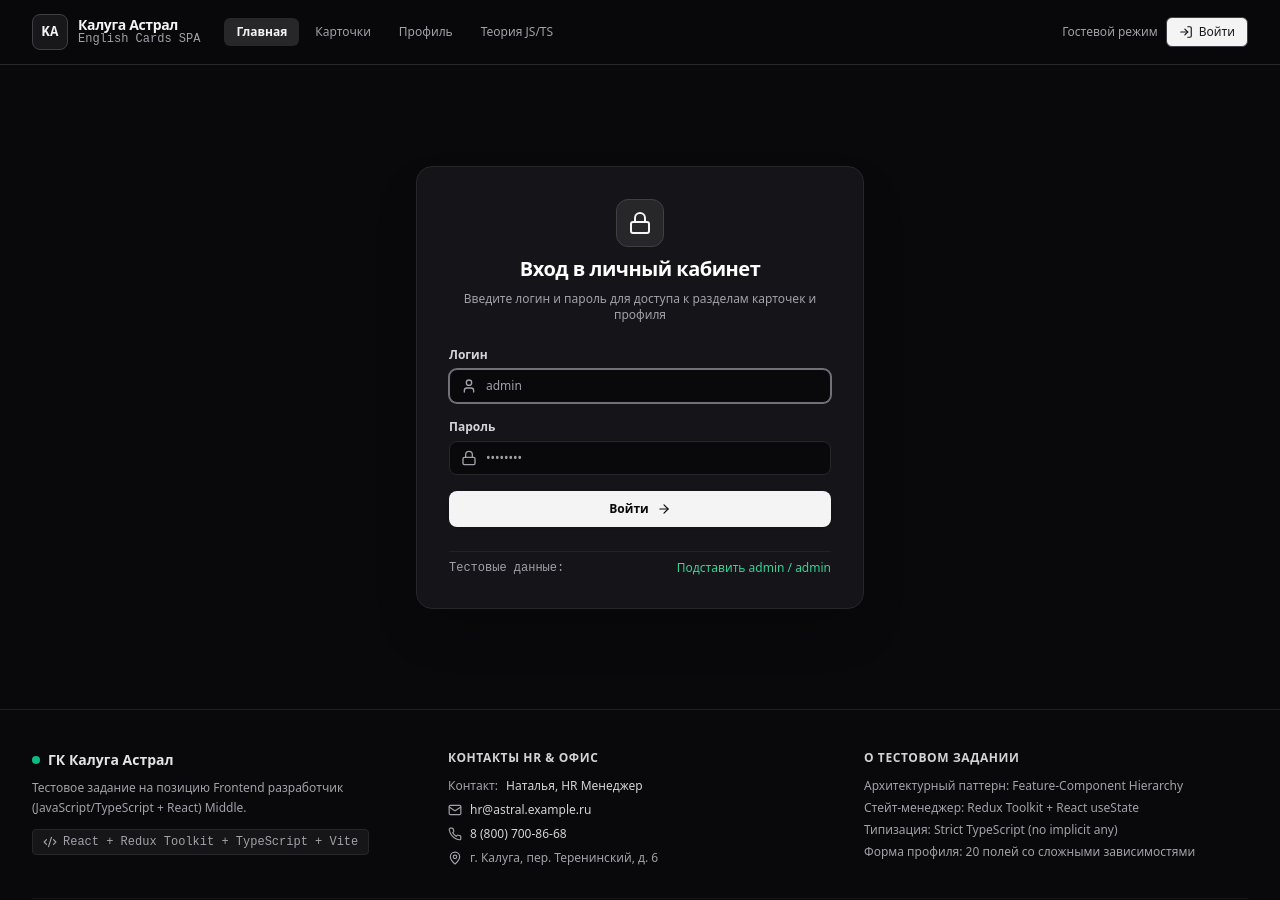
Test case: LoginPage Component › shows error message when entering invalid credentials
Type "wronguser" into the field with test id "login-username-input".
click(640, 386); type("wronguser")  # box top-left (449, 368), bottom-right (831, 402)
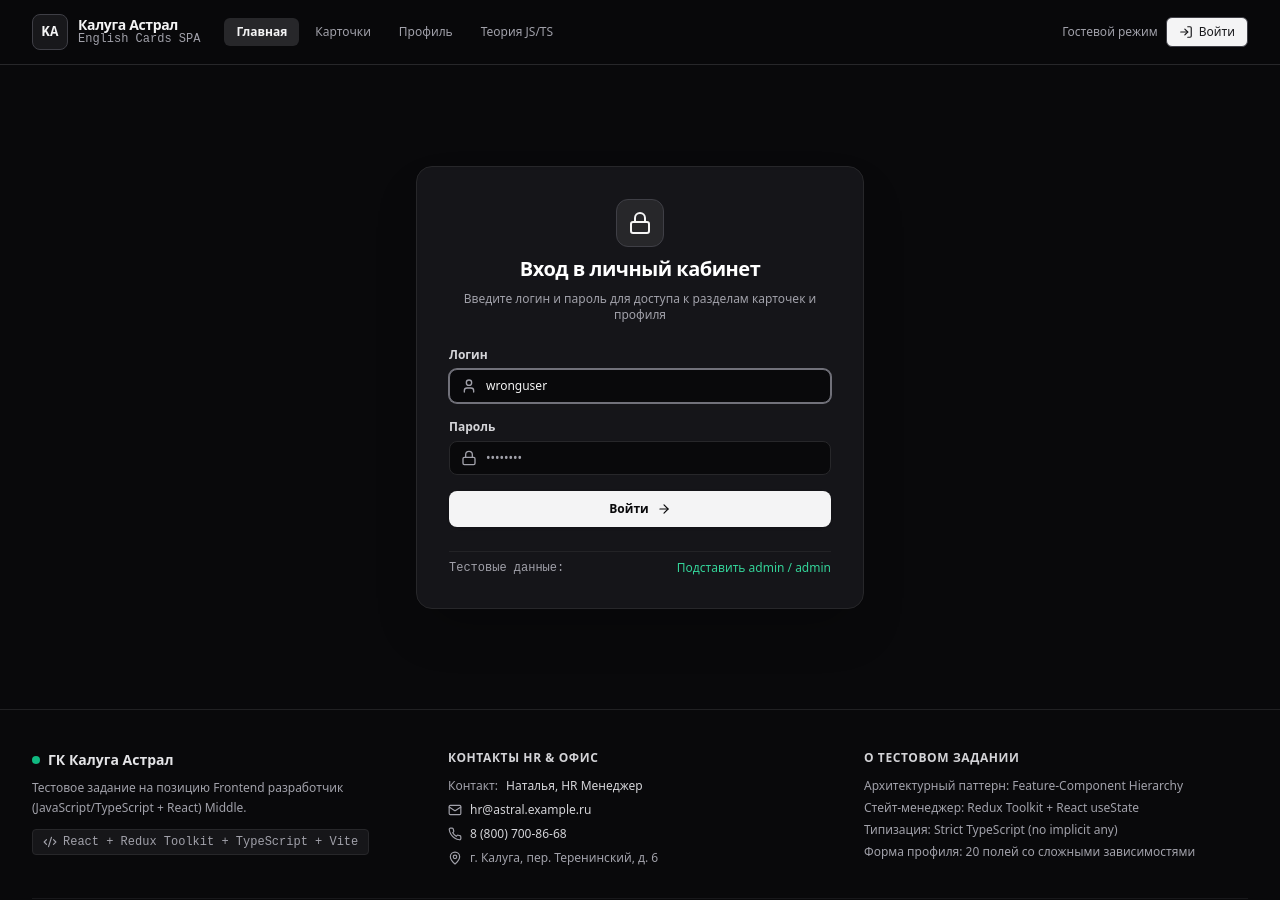
Type "wrongpass" into the password field with test id "login-password-input".
click(640, 458); type("wrongpass")  # box top-left (449, 440), bottom-right (831, 474)
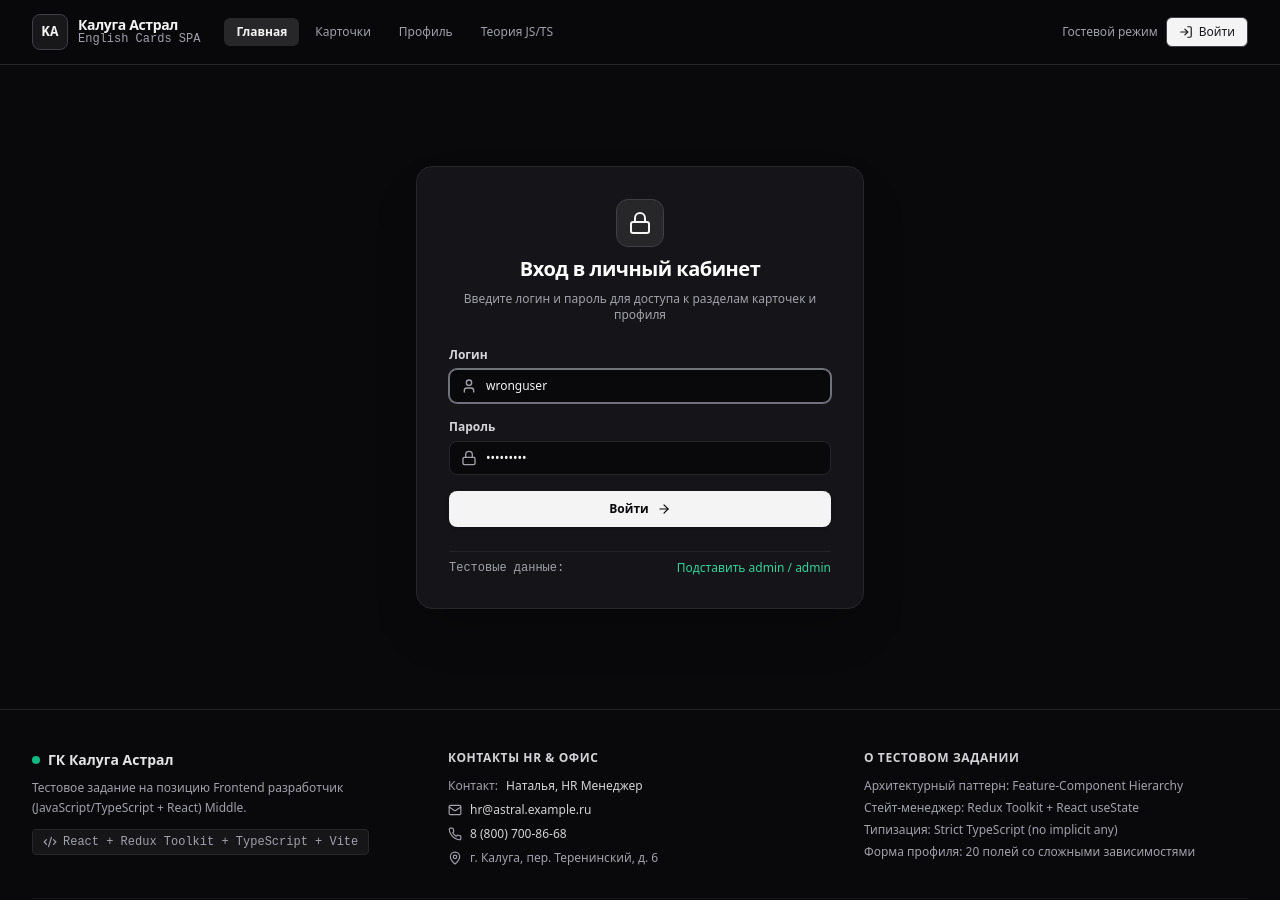
Click the button with test id "login-submit-btn".
click(640, 508)  # box top-left (449, 490), bottom-right (831, 526)
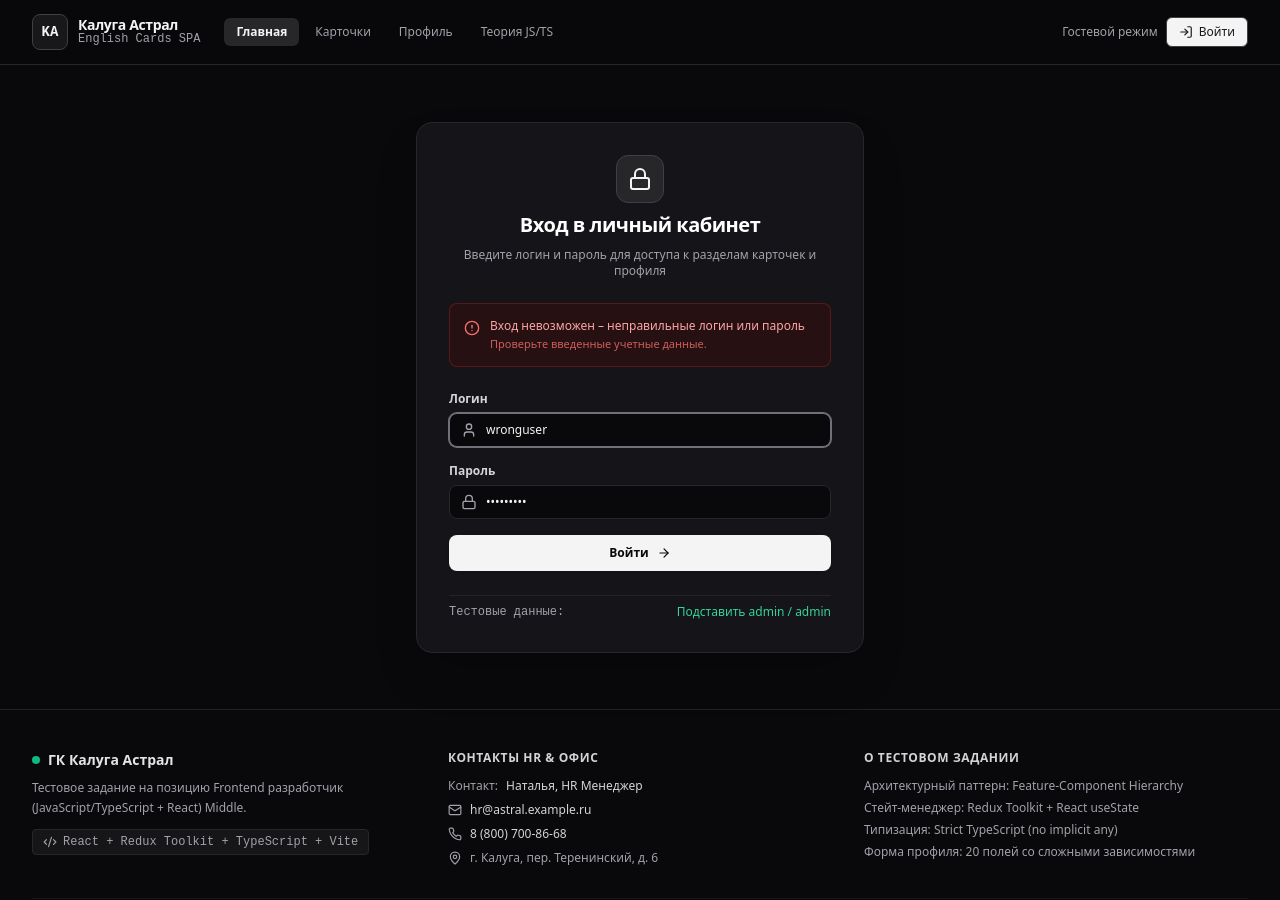
Check: the element with test id "login-error-message" shows "Вход невозможен – неправильные логин или пароль", box top-left (490, 316), bottom-right (805, 334)
